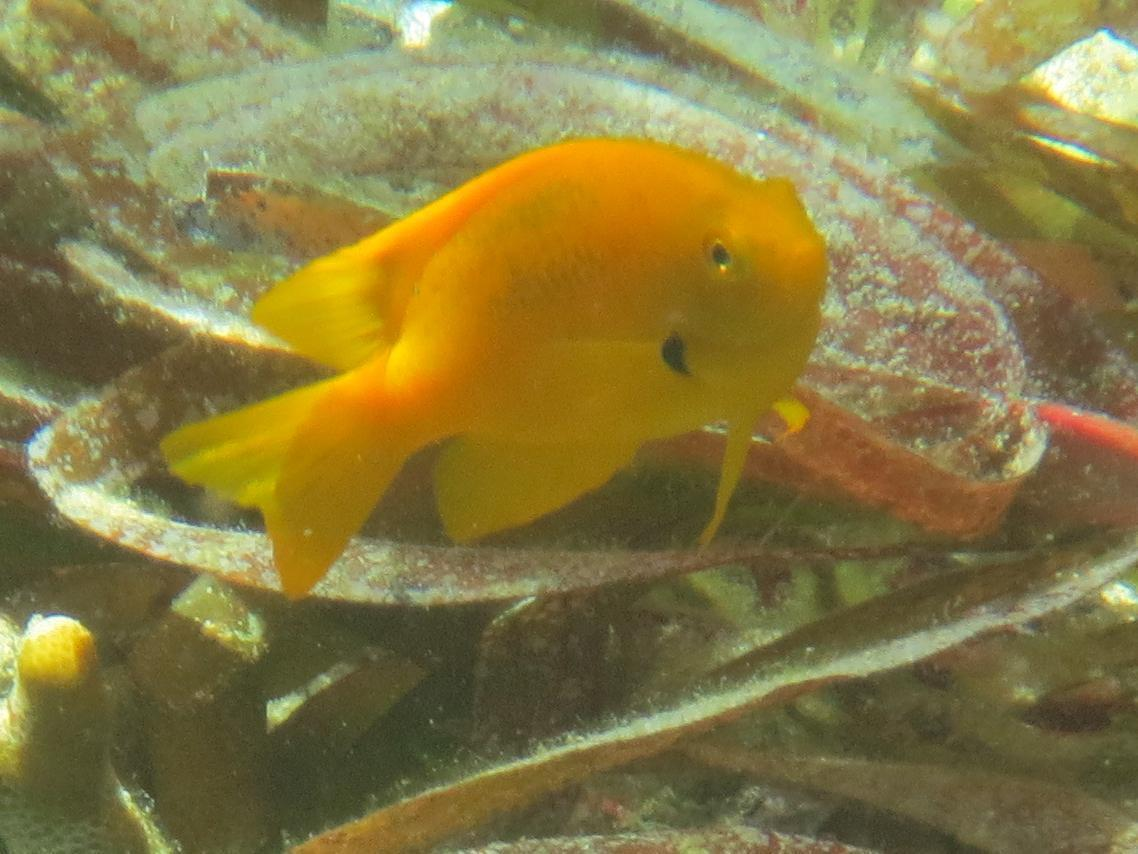Fish: (149, 130, 854, 619)
